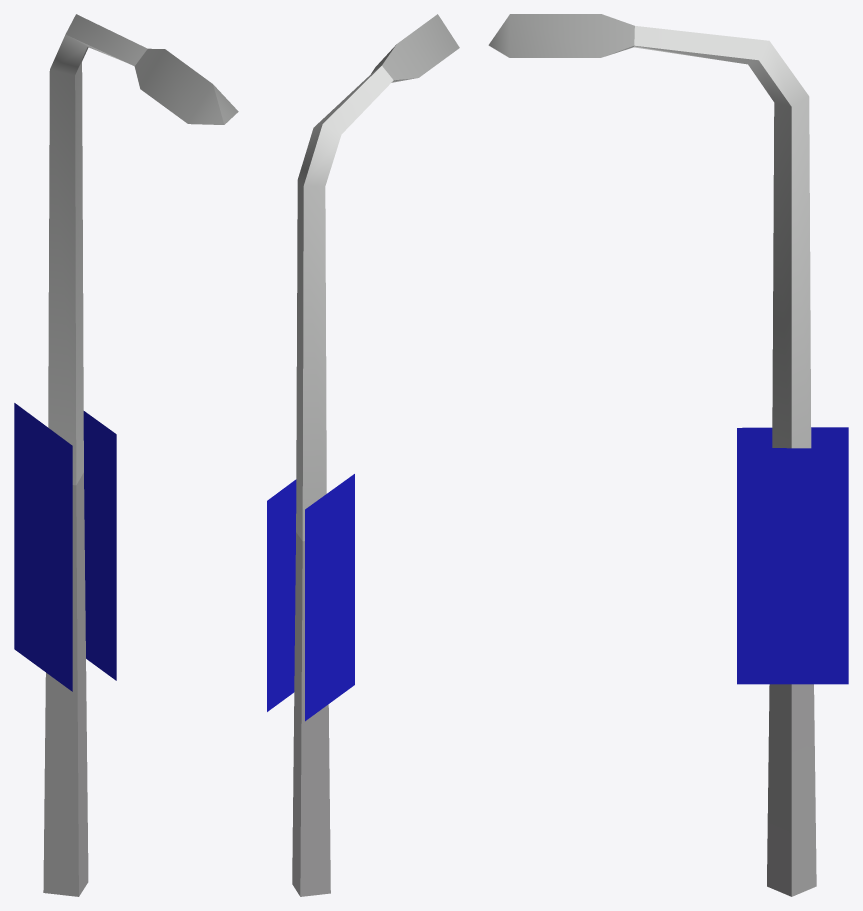
The model's file is SM_Props_Pole_01.fbx.
3 views of the same model, side by side, from view 1: azimuth 30°, elevation 25°; view 2: azimuth 150°, elevation 25°; view 3: azimuth 270°, elevation 25° (orthographic). The views are drawn at different scales.
Visible parts, largest first — view 1: SM_Props_Pole_01_LOD0; view 2: SM_Props_Pole_01_LOD0; view 3: SM_Props_Pole_01_LOD0.
Part boxes in pixels (bbox=[...]): SM_Props_Pole_01_LOD0: bbox=[14, 14, 238, 896]; SM_Props_Pole_01_LOD0: bbox=[267, 14, 459, 896]; SM_Props_Pole_01_LOD0: bbox=[488, 14, 848, 896].
Size of what is drawn, in the model's own units: 0.3103 by 5.32 by 1.99.
